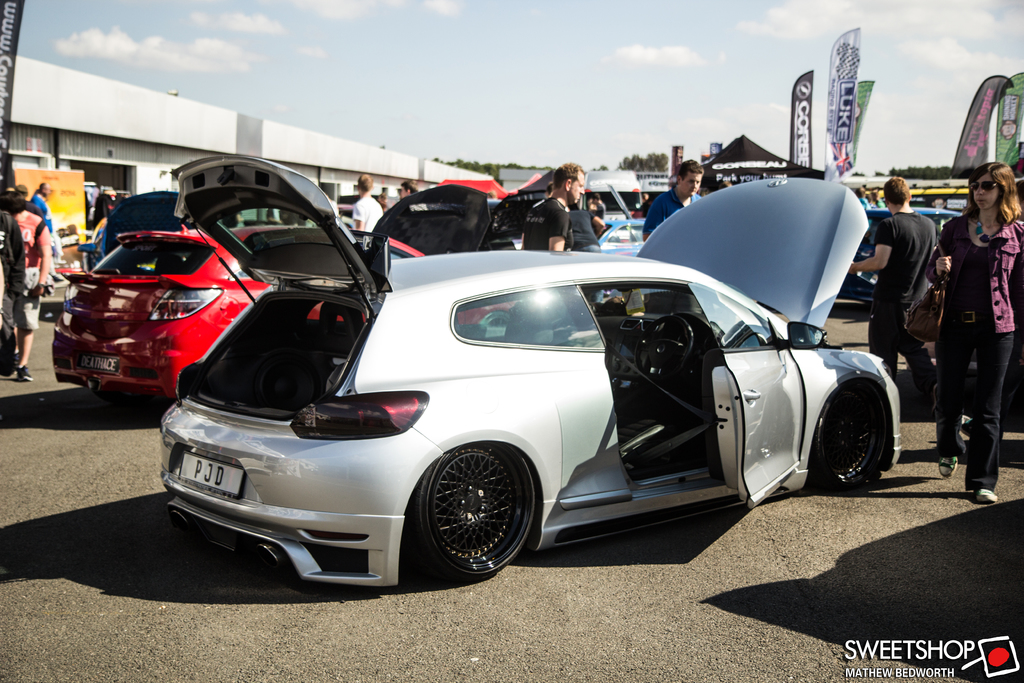Car: (49, 181, 962, 403)
